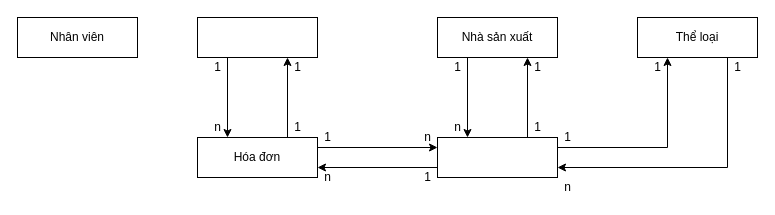
This 775x215 diagram has some shape labels left out. The shapes that lost their labels are listed below. From the top down, each one's box as (x1, y1, x2, y2) in pixels, then its label:
(196, 16, 318, 58): Khách hàng
(436, 136, 558, 178): Sản phẩm
